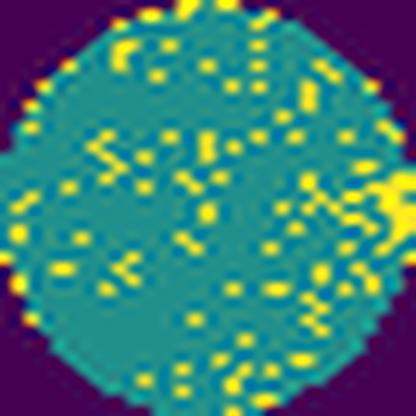Edge-Loc: (333, 162, 415, 265)
